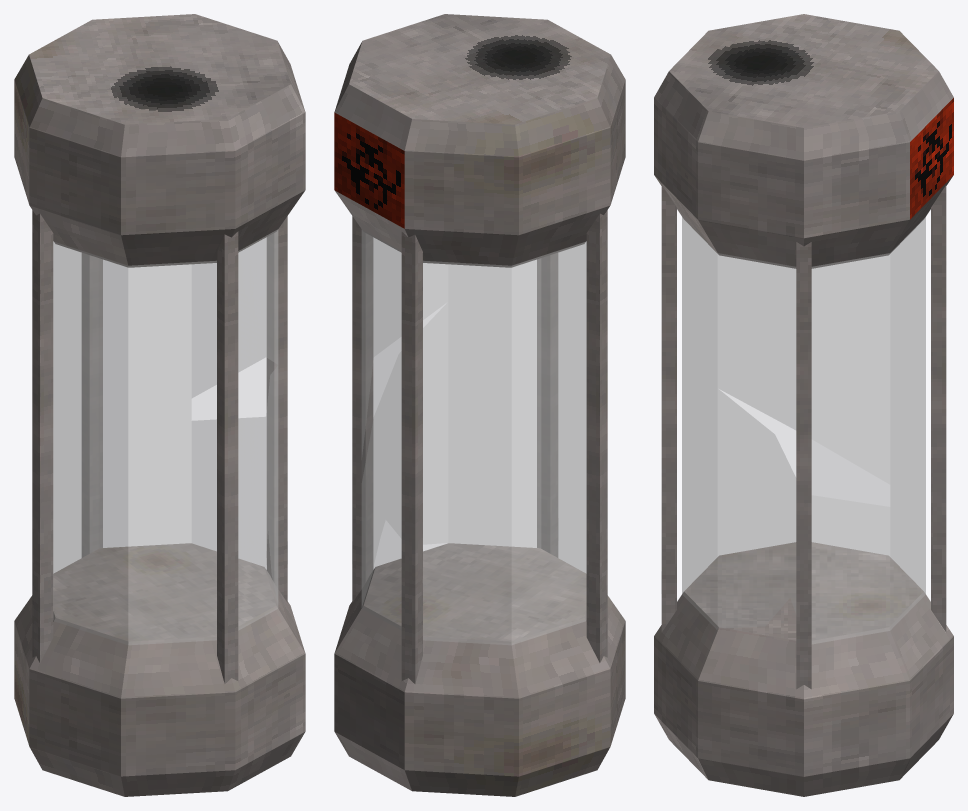
Rendered from broken_capsule.glb.
The picture shows the model from 3 angles, left to right: view 1: azimuth 30°, elevation 25°; view 2: azimuth 150°, elevation 25°; view 3: azimuth 270°, elevation 25°; orthographic projection.
Parts seen in each view (by area): view 1: body.001; view 2: body.001; view 3: body.001.
Boxes of the visible parts, bbox=[...] form: body.001: bbox=[14, 14, 305, 796]; body.001: bbox=[334, 14, 625, 796]; body.001: bbox=[654, 14, 953, 796].
Bounding box in the file's own units: 0.234 × 0.5758 × 0.234.
Materials: 2 (1 with a texture image).
